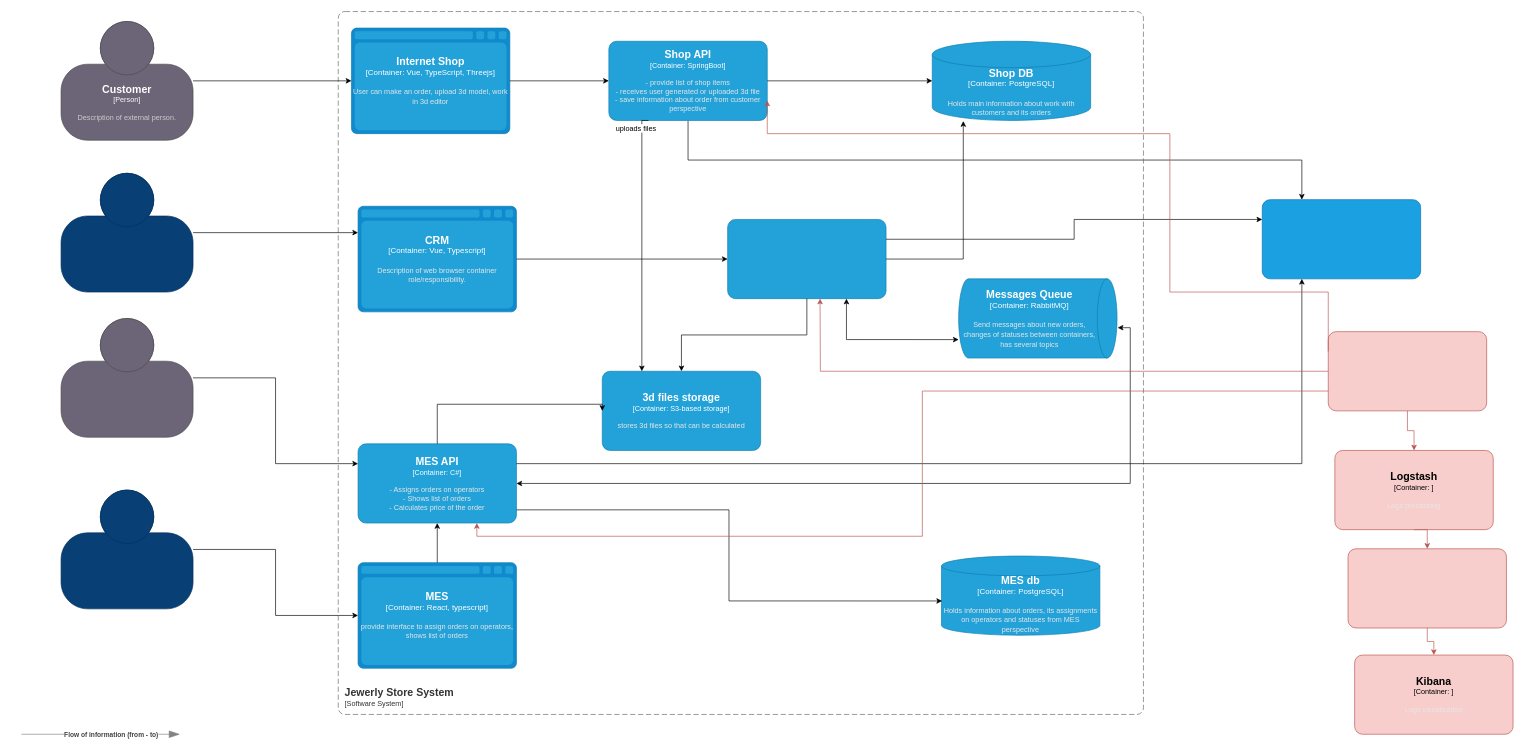
The diagram is 1525 pixels wide and 756 high, and some of its shapes have lost their labels. Each missing label, with the centre of its shape:
API user [Person] Description of external person.: pixel 126 377
CRM API [Container: SpringBoot] Description of container role/responsibility.: pixel 806 259
Elasticsearch [Container: ] Logs db: pixel 1426 588
Filebeat [Container: ] Logs agregator: pixel 1407 371
Jaeger [Container: ] Tracing visualisation: pixel 1341 239
Operator [Person] Takes order in work, manufactures jewerly: pixel 126 549
Seller [Person] Operates with order, confirms manufacturing for the user: pixel 126 232
